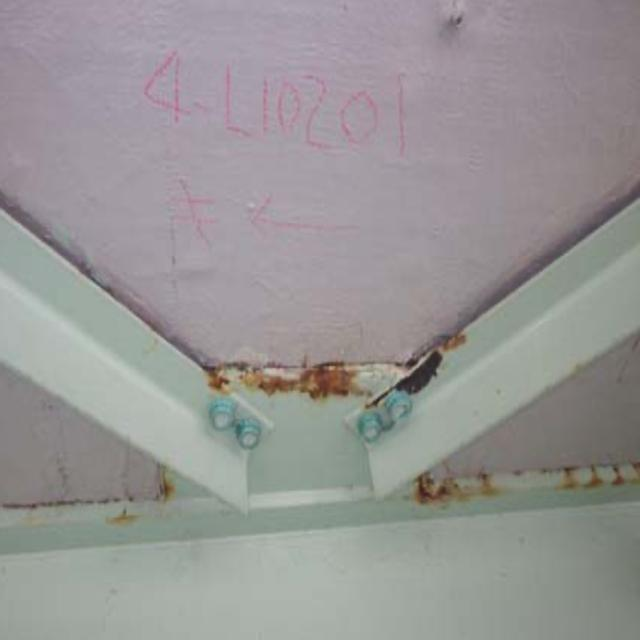corrosion: (193, 320, 466, 421), (413, 451, 634, 520)
